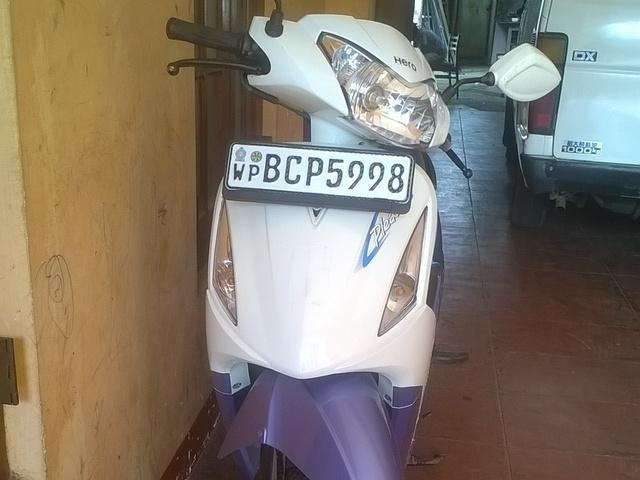license-plate: (230, 144, 408, 199)
